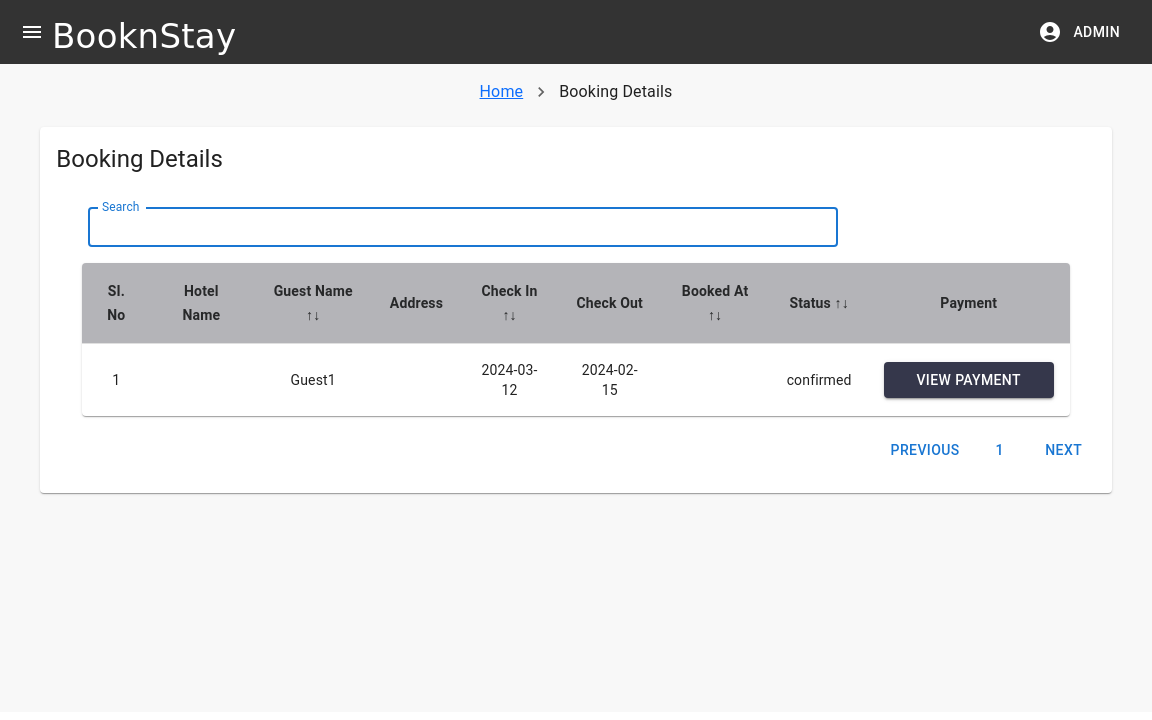
Test: testing list booking components › should display sort error
Click the column heading "Guest Name ↑↓".
click(313, 303)  # box [252,263,374,344]
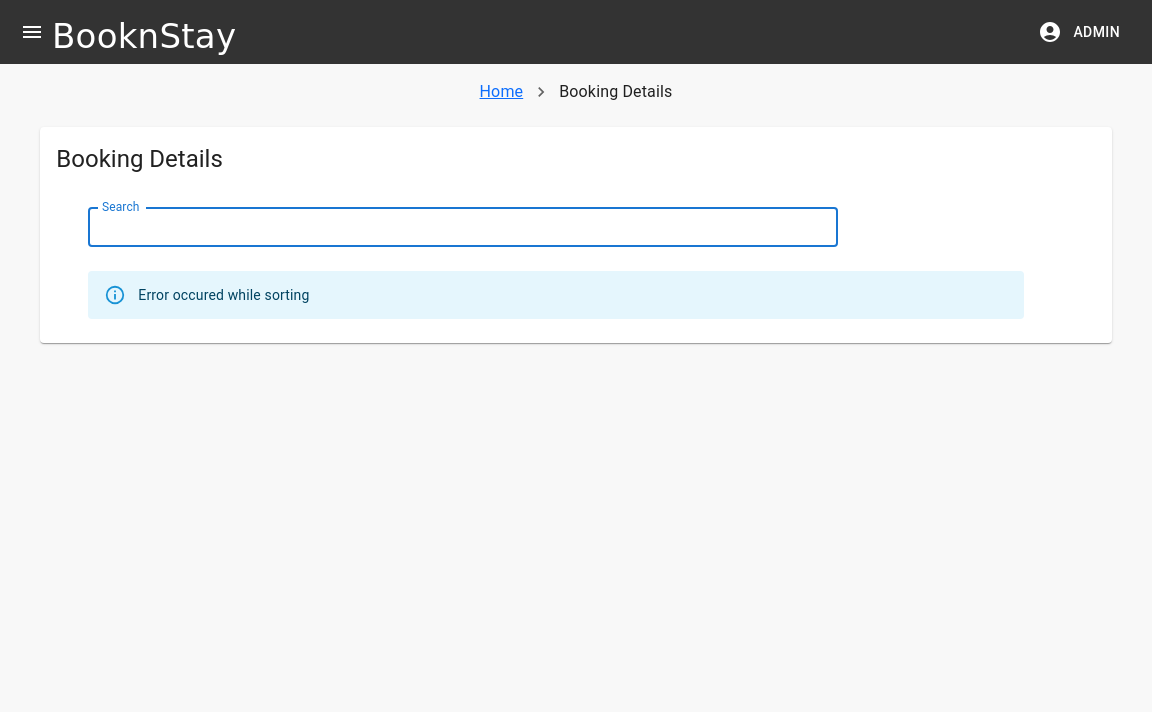
Result: the text "Error occured while sorting" is shown at [138,287,309,303]
